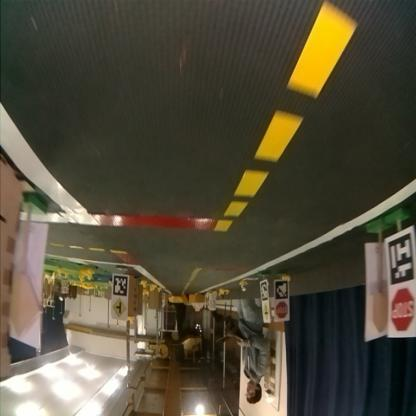Duckie: (88, 268, 94, 278), (241, 284, 247, 292), (140, 280, 146, 288)
Intersection sign: (113, 299, 127, 319), (264, 304, 270, 321)
QR code: (387, 232, 415, 284), (113, 276, 128, 294), (275, 283, 289, 301), (260, 282, 270, 302)
Stop sign: (390, 288, 414, 334), (276, 302, 290, 320)
